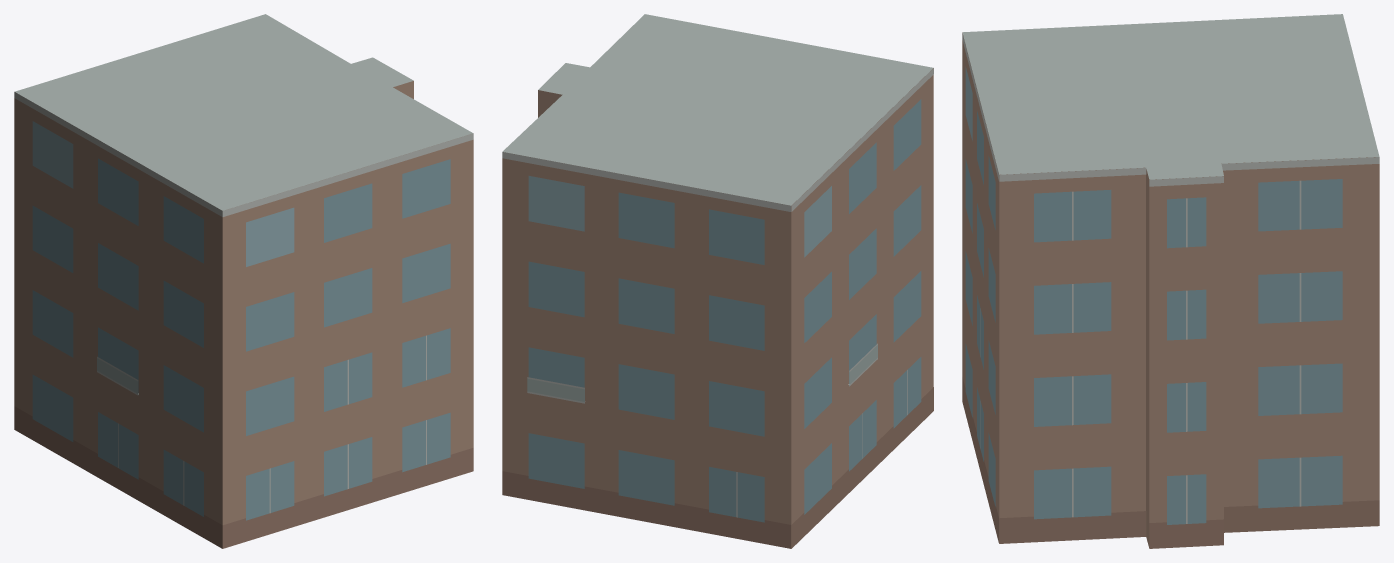
Rendered from survey-upis-32745854.glb.
The picture shows the model from 3 angles, left to right: view 1: azimuth 30°, elevation 25°; view 2: azimuth 150°, elevation 25°; view 3: azimuth 270°, elevation 25°; orthographic projection. The views are drawn at different scales.
Visible parts, largest first — view 1: survey-upis-32745854.tmp; view 2: survey-upis-32745854.tmp; view 3: survey-upis-32745854.tmp.
Boxes of the visible parts, box(x1,y1,x2,y2) form: survey-upis-32745854.tmp: box(14, 14, 473, 548); survey-upis-32745854.tmp: box(502, 14, 933, 548); survey-upis-32745854.tmp: box(962, 14, 1379, 548).
Bounding box in the file's own units: 12.48 × 12.95 × 13.28.
